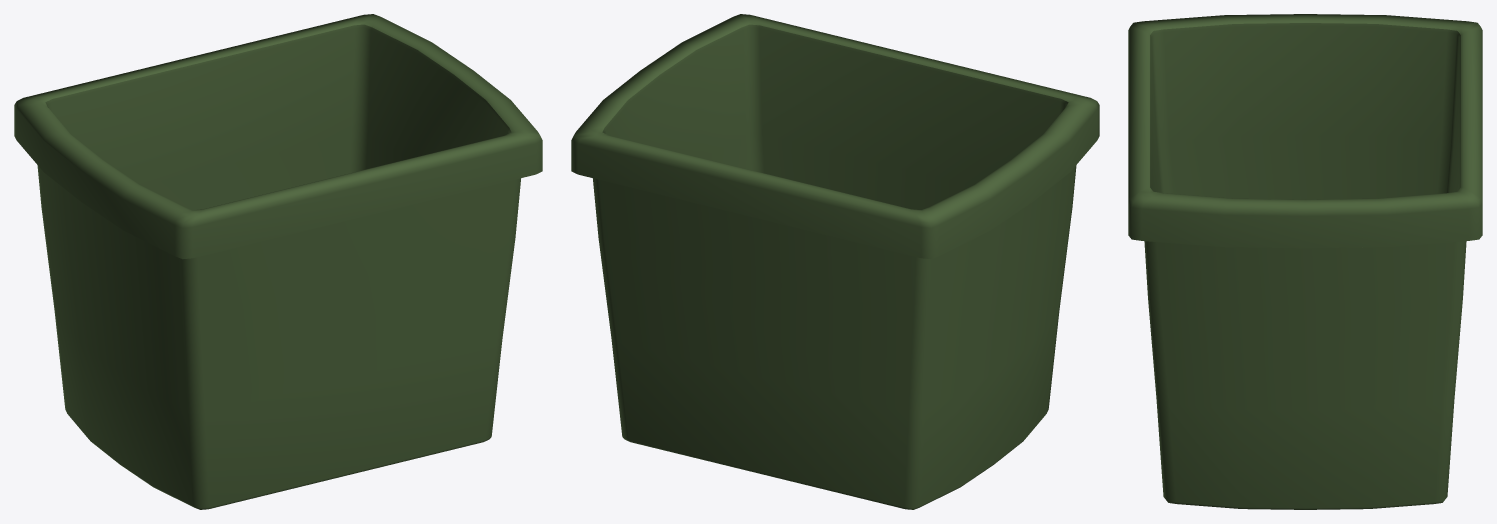
Rendered from ASFTR_TrashCan.fbx.
The picture shows the model from 3 angles, left to right: view 1: azimuth 30°, elevation 25°; view 2: azimuth 150°, elevation 25°; view 3: azimuth 270°, elevation 25°; orthographic projection. The views are drawn at different scales.
Visible parts, largest first — view 1: ASFTR_TrashCan; view 2: ASFTR_TrashCan; view 3: ASFTR_TrashCan.
Part boxes in pixels (left/top/right/bottom): ASFTR_TrashCan: left=14, top=14, right=542, bottom=509; ASFTR_TrashCan: left=571, top=14, right=1099, bottom=509; ASFTR_TrashCan: left=1128, top=14, right=1482, bottom=509.
Size of the model in its own units: 93.98 by 70.61 by 70.74.
